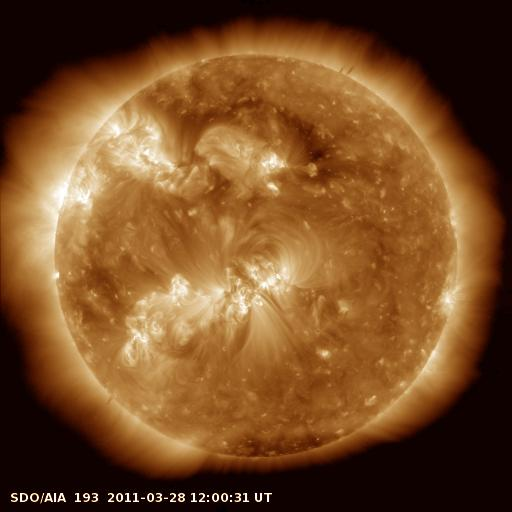coronal_hole: (203, 423, 351, 466)
